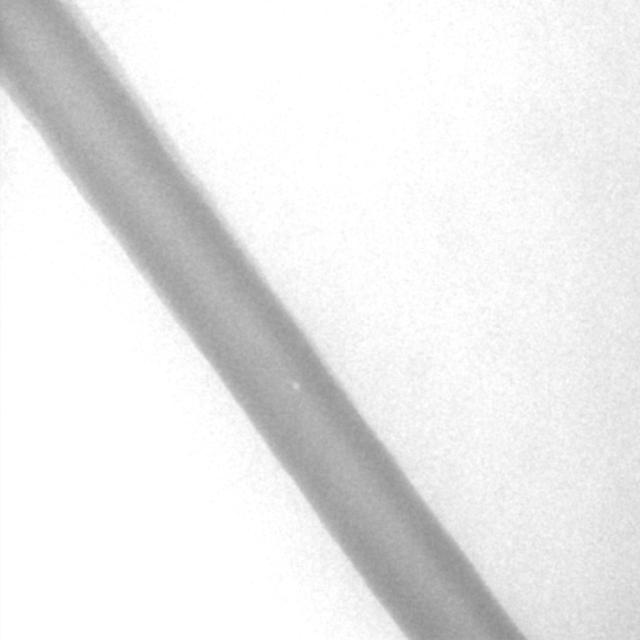air hole: (288, 378, 302, 396)
